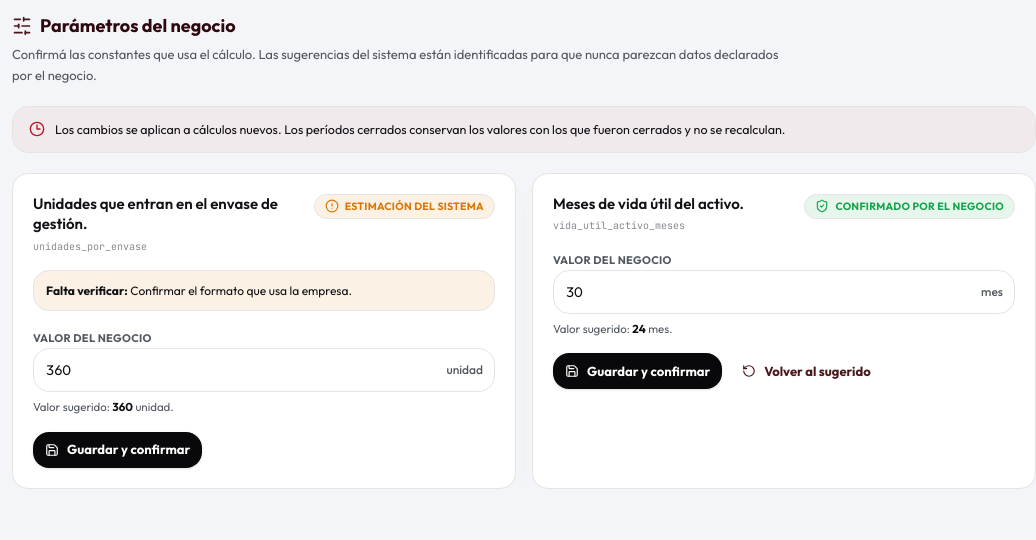
parámetros del negocio › guarda el número elegido solamente al presionar Guardar y confirmar
Expected: the list item "Unidades que entran en el envase de gestión." is shown, [33,194,278,233]
Replace the text in the field labelled "Valor del negocio" below "Falta verificar:" with "375,5" at (264, 370), box [33,348,495,392]
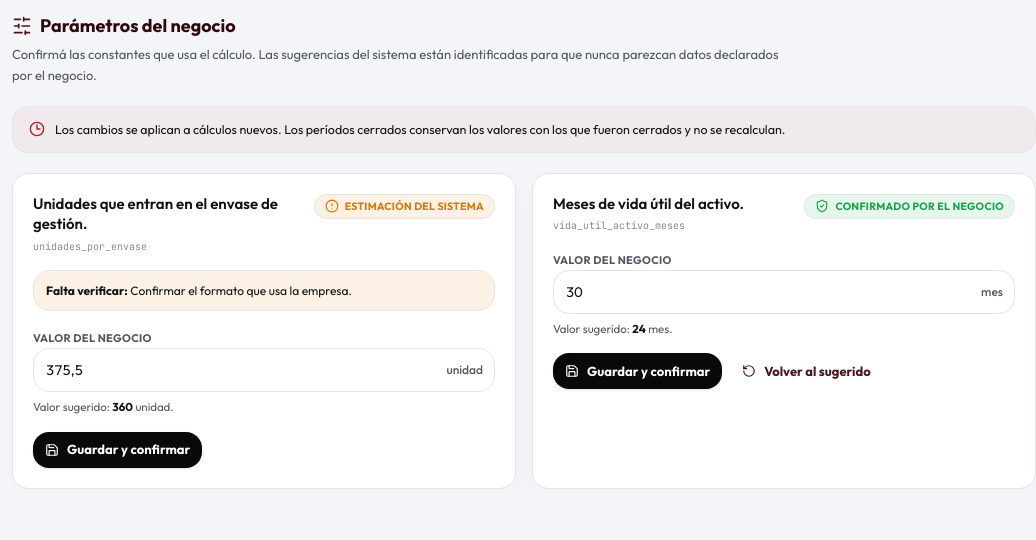
Click the button "Guardar y confirmar" below "360".
click(118, 450)  # box [33,432,202,468]
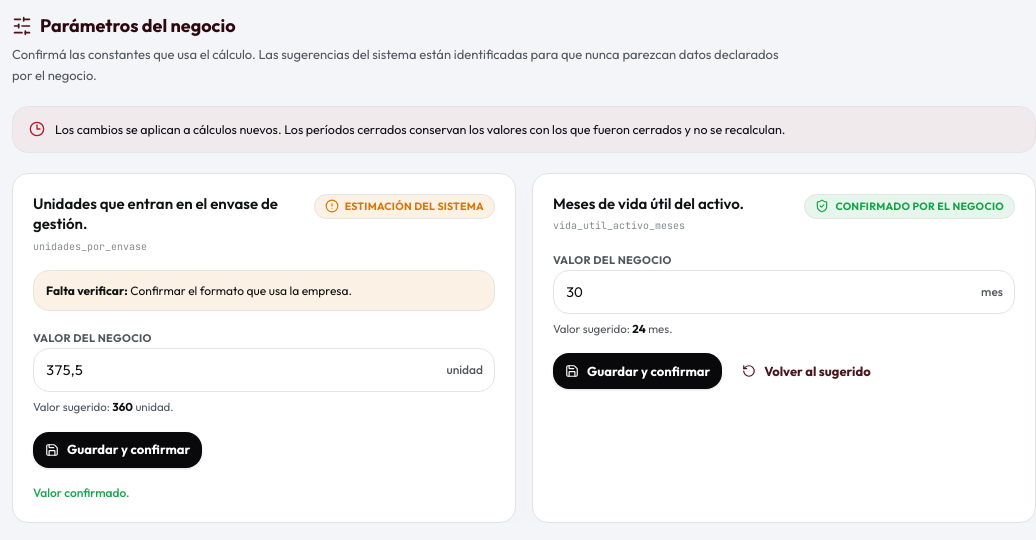
Now the text "Valor confirmado." is shown, box [33,485,130,500]
